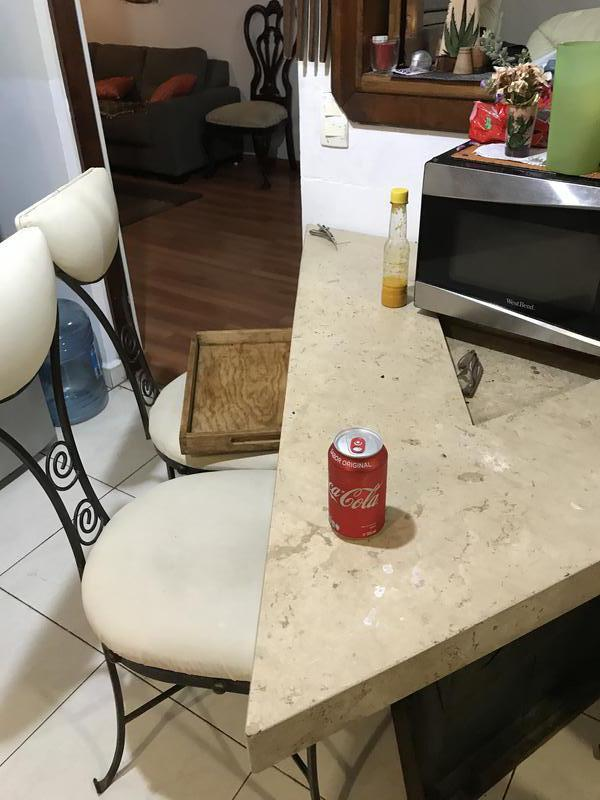coca_cola: (330, 428, 387, 538)
